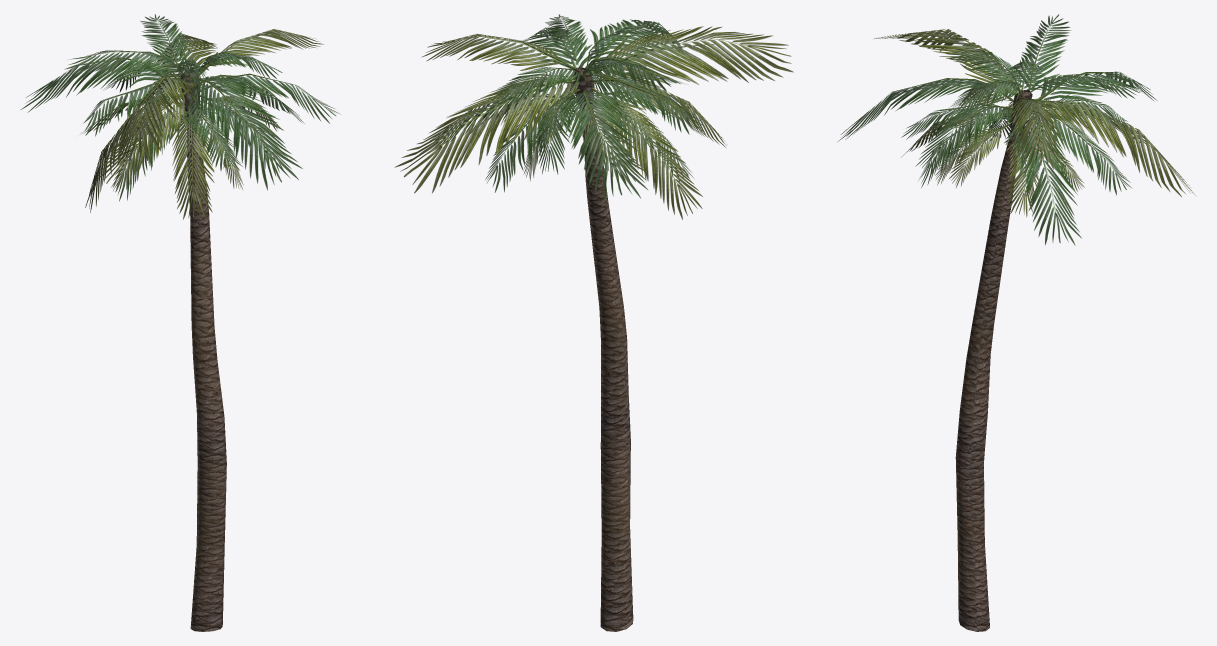
Rendered from bent_e.glb.
3 views of the same model, side by side, from view 1: azimuth 30°, elevation 25°; view 2: azimuth 150°, elevation 25°; view 3: azimuth 270°, elevation 25° (orthographic). The views are drawn at different scales.
Visible parts, largest first — view 1: Palm_006_w; view 2: Palm_006_w; view 3: Palm_006_w.
Boxes of the visible parts, x1,y1,x2,y2 form: Palm_006_w: [20, 14, 340, 631]; Palm_006_w: [394, 14, 793, 631]; Palm_006_w: [838, 14, 1195, 631].
Bounding box in the file's own units: 4.22 × 7.8 × 4.61.
1 material, 1 textured.
